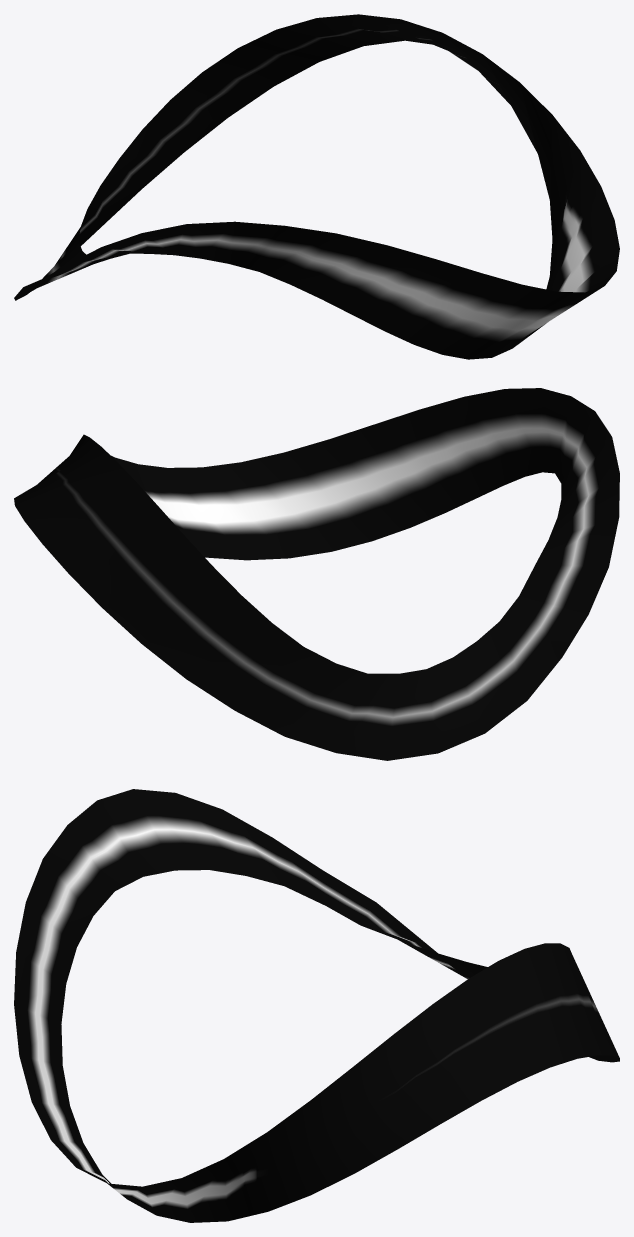
File: loding.FBX
3 renders of one model, top to bottom at view 1: azimuth 30°, elevation 25°; view 2: azimuth 150°, elevation 25°; view 3: azimuth 270°, elevation 25°, orthographic. The views are drawn at different scales.
Visible parts, largest first — view 1: Plane004; view 2: Plane004; view 3: Plane004.
Boxes of the visible parts, x1,y1,x2,y2 form: Plane004: [14, 14, 619, 359]; Plane004: [14, 388, 619, 760]; Plane004: [14, 789, 619, 1222].
Size of the model in its own units: 34.27 by 13.56 by 30.57.
